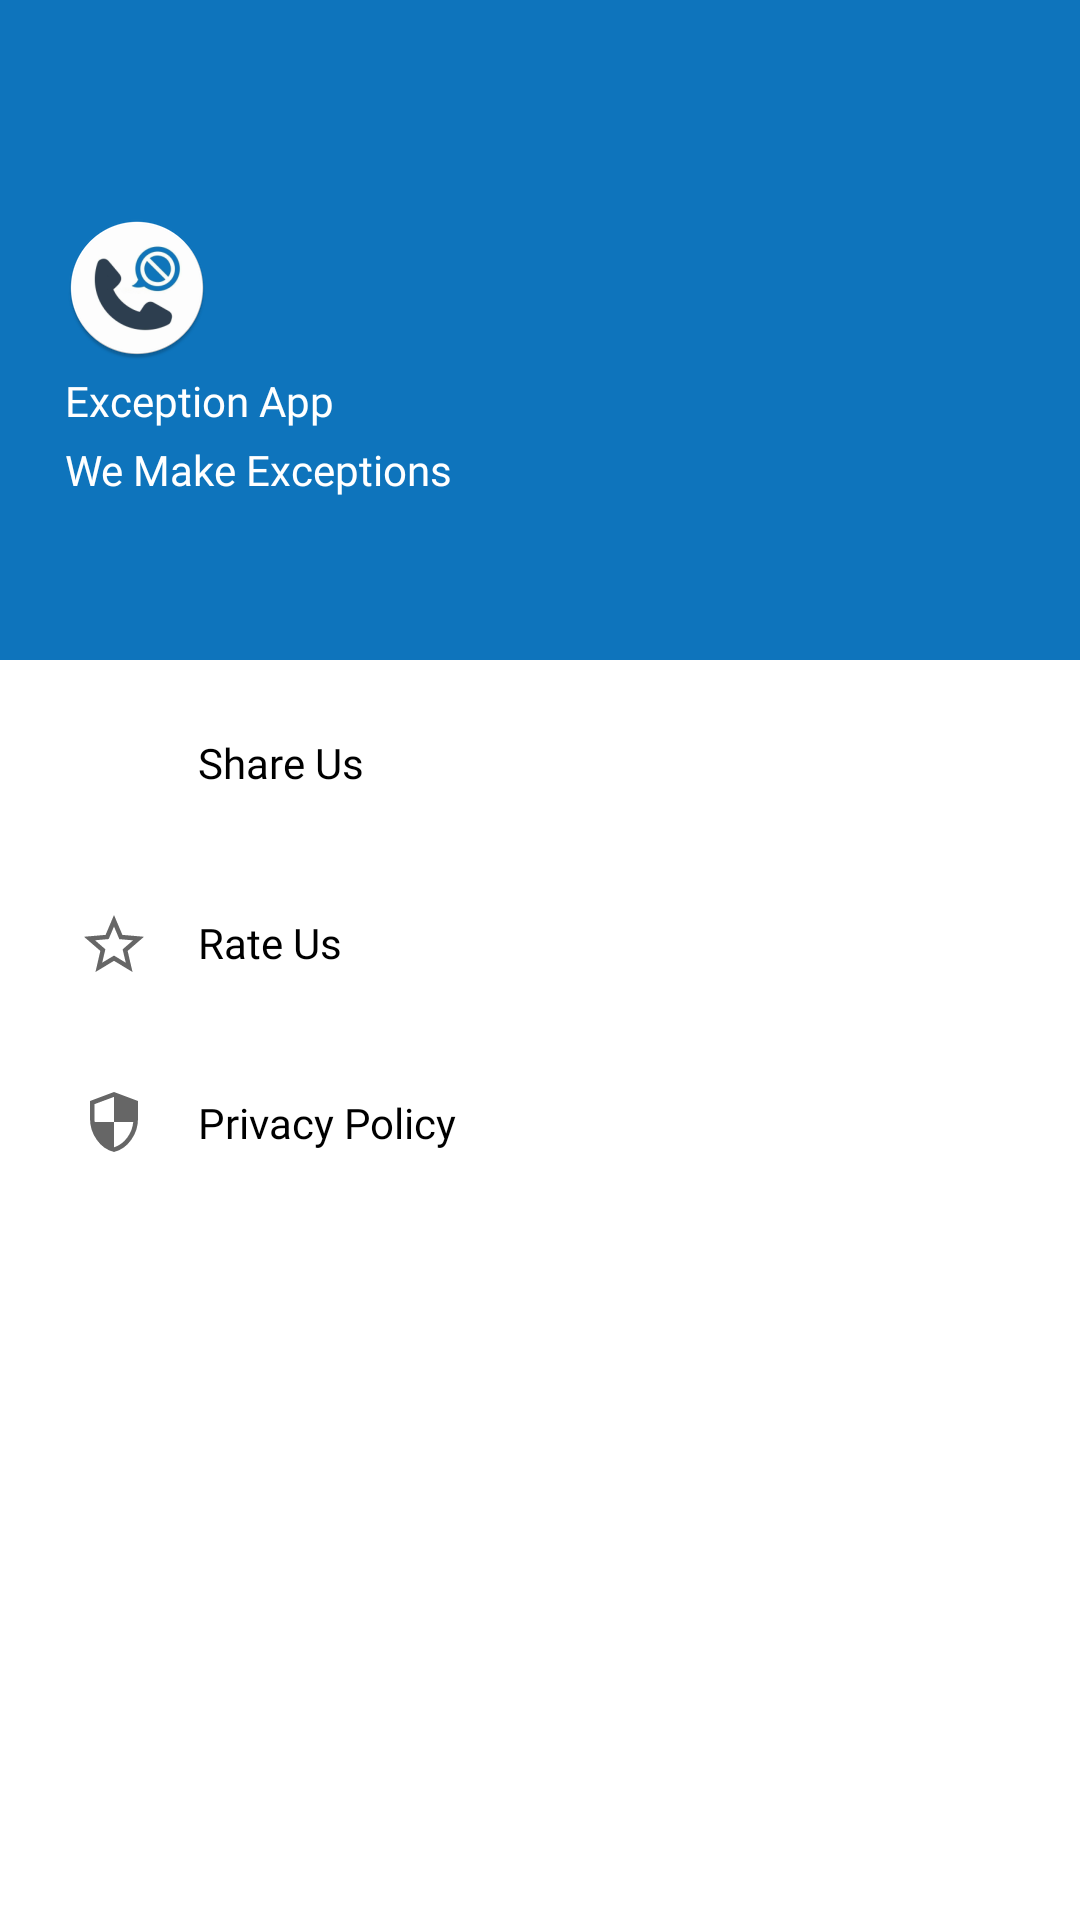

Icons on this 1080×1920 Android screen, each with its box as (x1, y1, x2, y2):
star: (84, 915, 144, 972)
